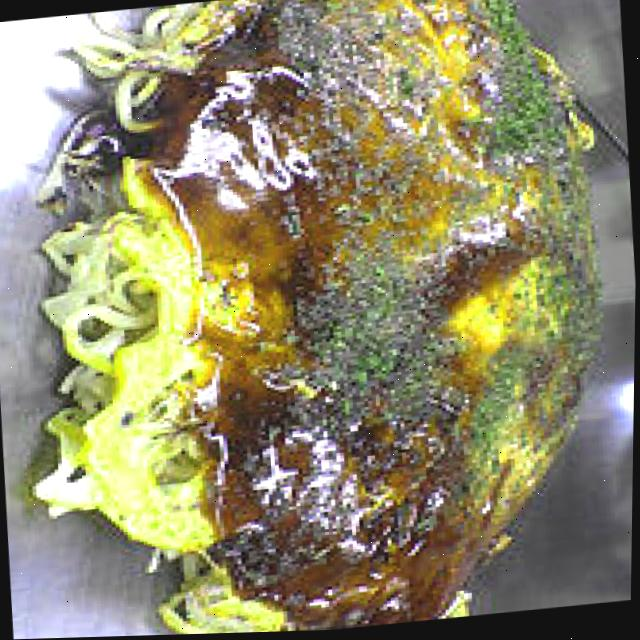蛋糕甜品: (2, 0, 630, 640)
